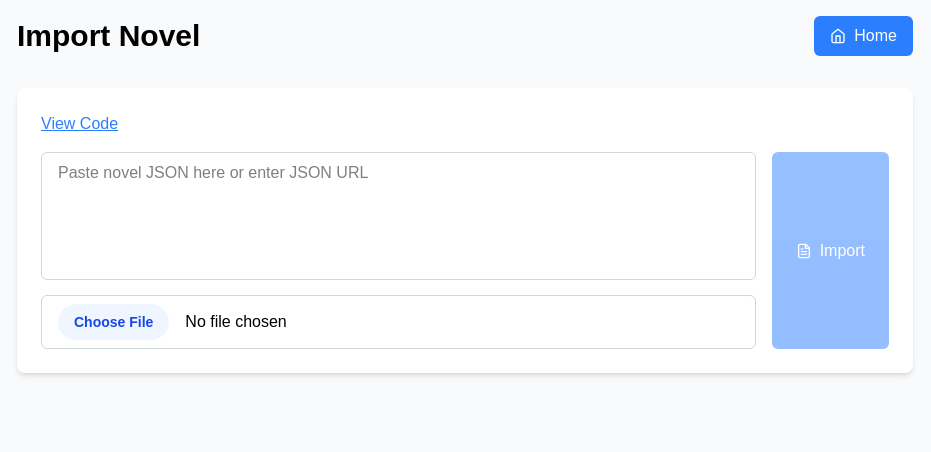
Scenario: ImportPage › URL Fetch › fetches JSON from URL
Type "https://example.com/novel.json" into the text box with placeholder "Paste novel JSON here or enter JSON URL" at (398, 216), box x1=41 y1=152 x2=756 y2=280
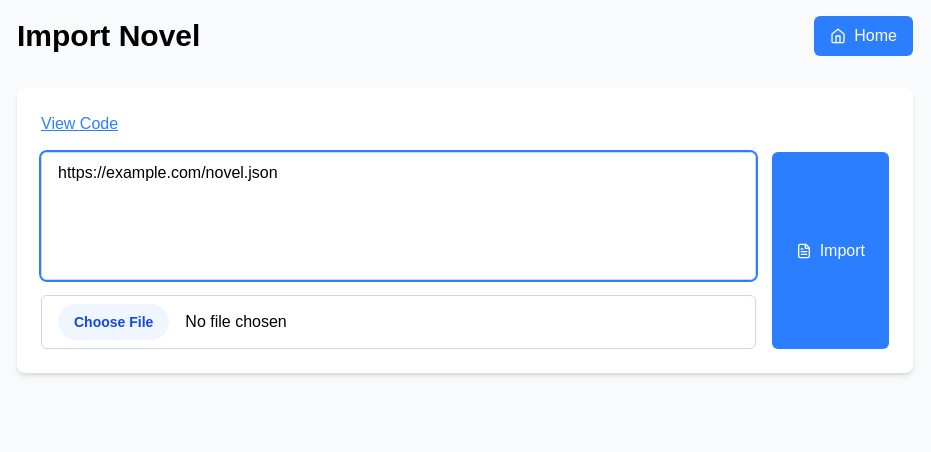
Click the button "Import" at (830, 250), box x1=772 y1=152 x2=889 y2=349
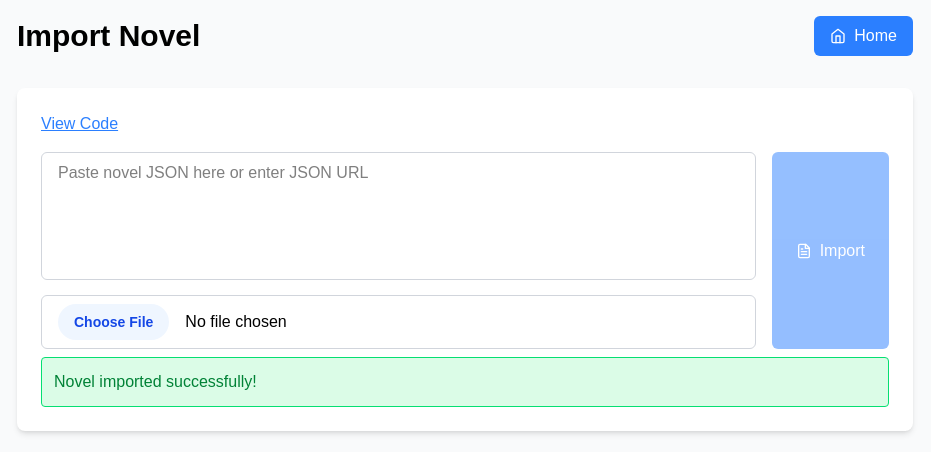
Expected: the text "Novel imported successfully!" is shown, x1=41 y1=357 x2=889 y2=407
